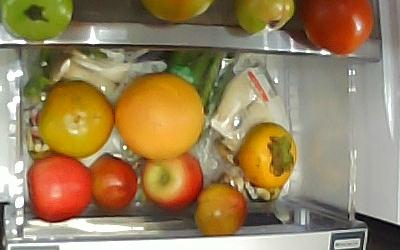apple: (27, 154, 91, 223), (140, 151, 204, 212)
grapefruit: (115, 72, 205, 162)
persimmon: (40, 82, 114, 158), (237, 123, 298, 191)
prune: (89, 152, 138, 212), (193, 182, 247, 236)
